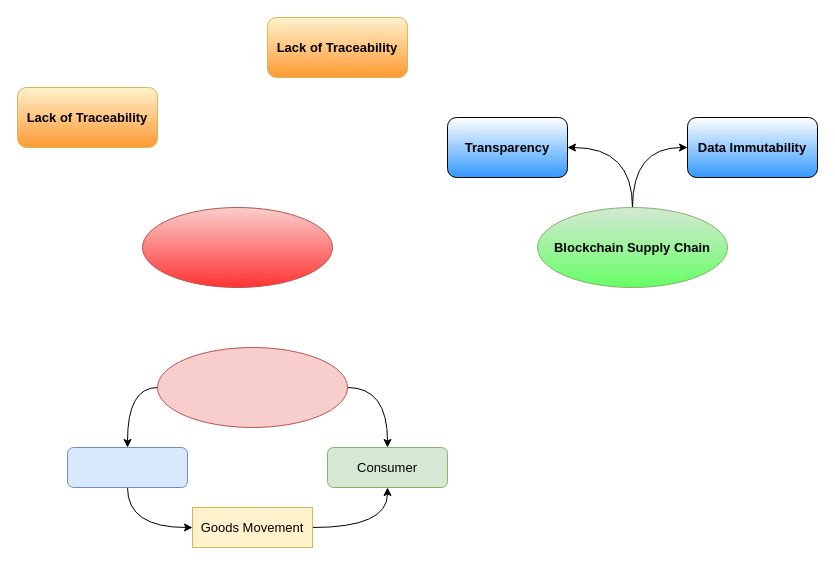
This 835x565 diagram has some shape labels left out. Here are the shapes that lost their labels. From the top down, the box of each, then its label:
(142, 206, 332, 288): Traditional Supply Chain
(156, 346, 348, 428): Supply Chain Management
(66, 446, 188, 488): Producer
